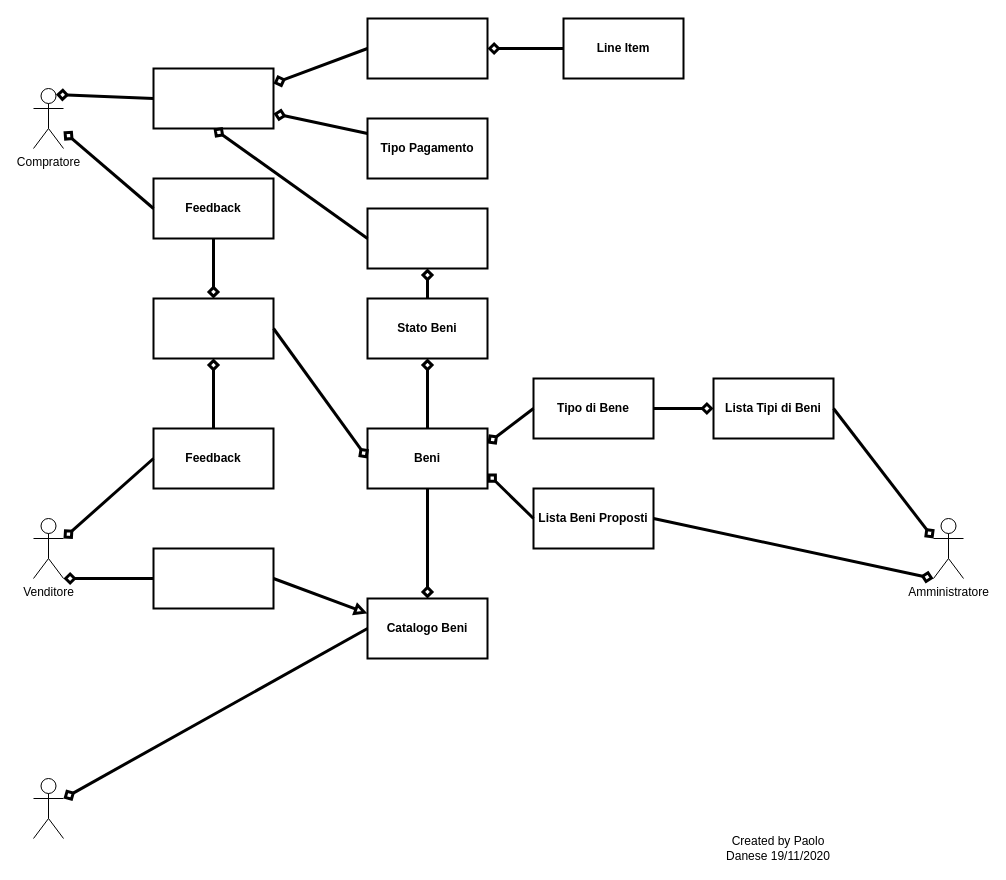
The diagram is 1006 pixels wide and 880 high, and some of its shapes have lost their labels. The shapes that lost their labels are listed below. From the top down, each one's box as (x1, y1, x2, y2) in pixels, then its label:
(366, 17, 488, 79): Shopping Cart
(152, 67, 274, 129): Ordine
(366, 207, 488, 269): Conferma Ordine
(152, 297, 274, 359): Feedback List
(152, 547, 274, 609): Mini Catalogo
(32, 778, 64, 838): Guest
